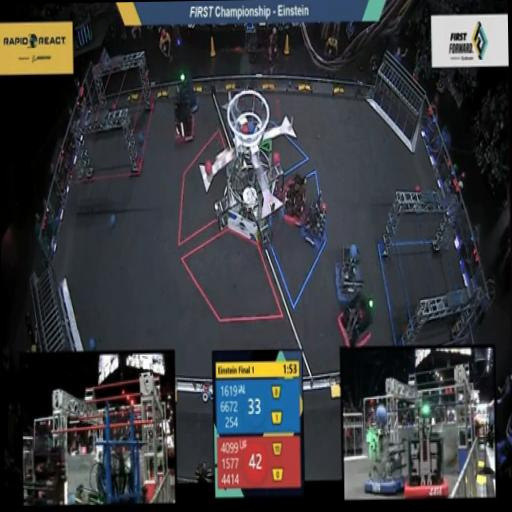robot: (327, 244, 367, 308), (334, 290, 376, 348), (280, 162, 312, 232), (300, 190, 332, 256), (168, 58, 202, 112), (168, 95, 196, 148)
